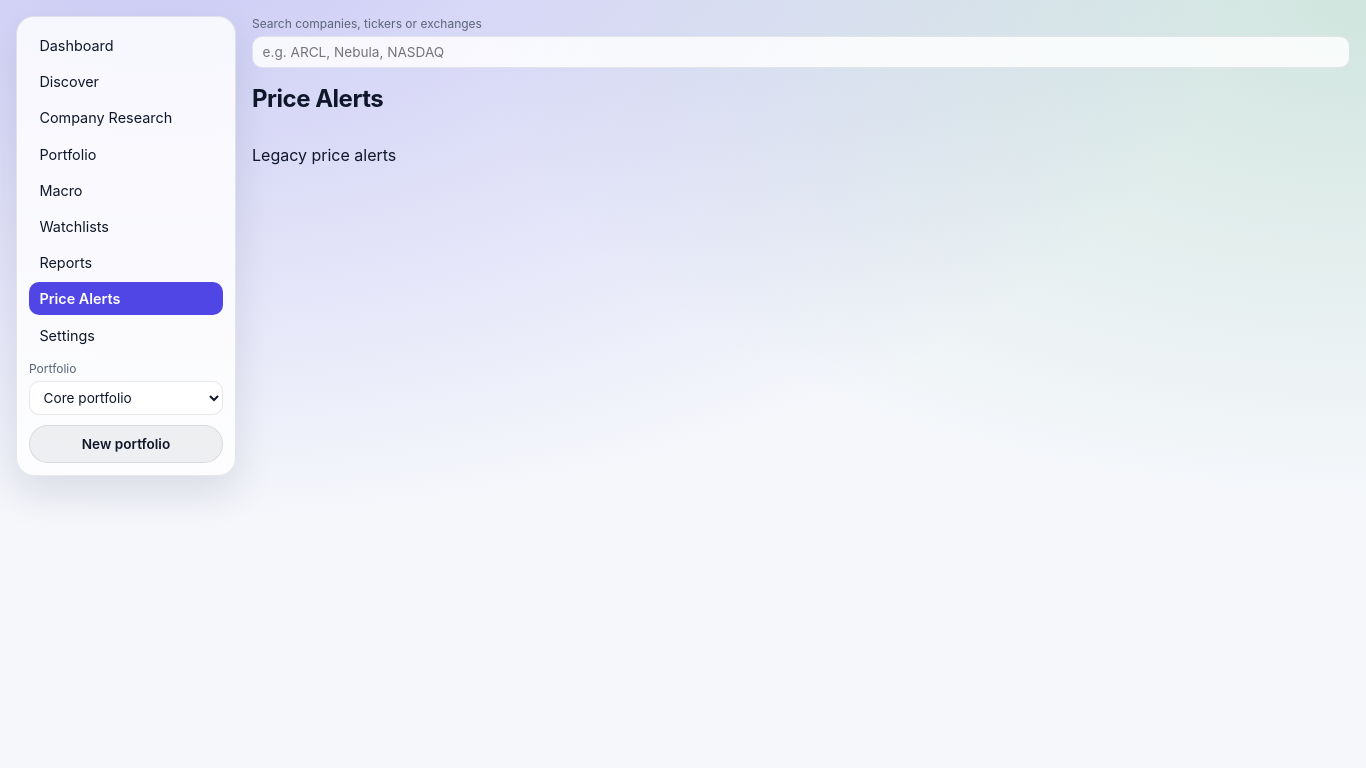
Scenario: ResearchWorkspace › saves a portfolio report and then deletes it
The image size is (1366, 768).
Click the button "Portfolio": [126, 154] box [29,138,223,171]
(page scrolled)
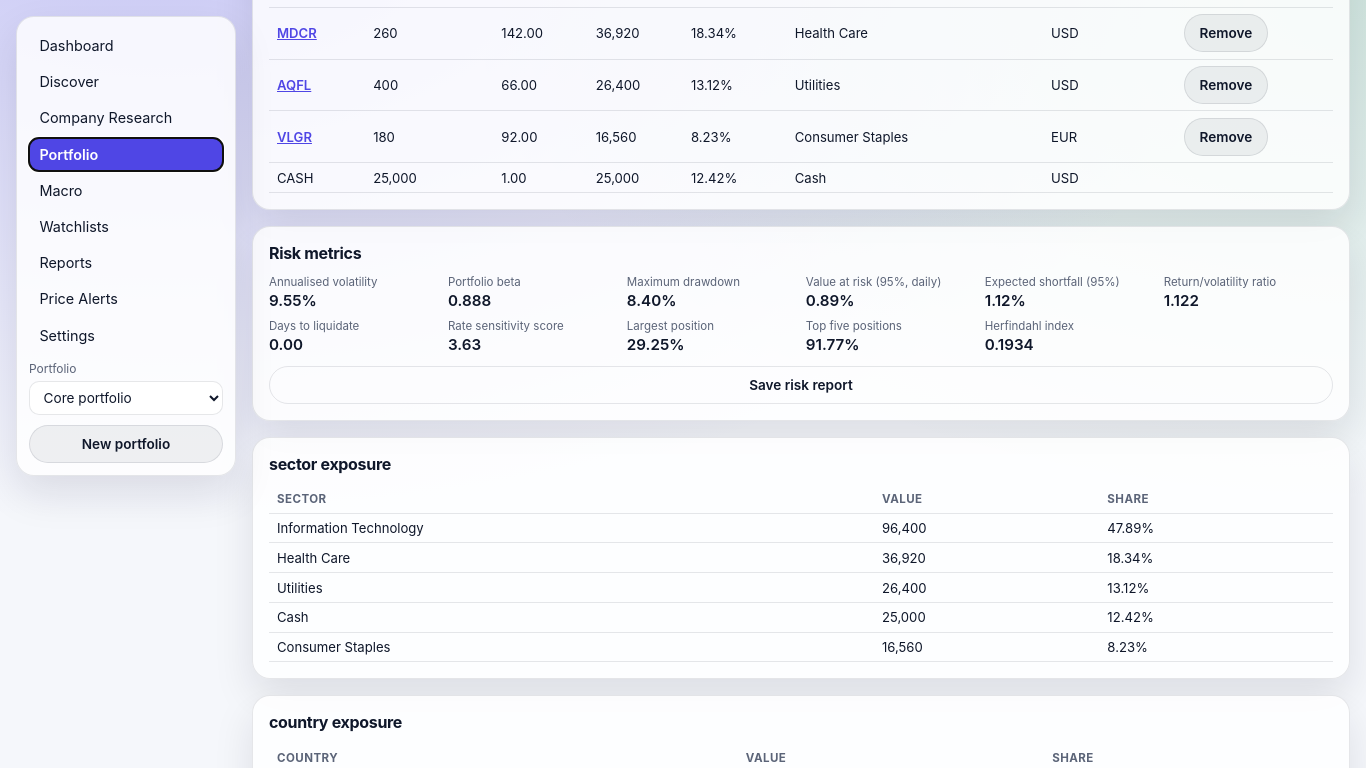
Click the button "Save risk report": [801, 385] box [269,366,1333,404]
(page scrolled)
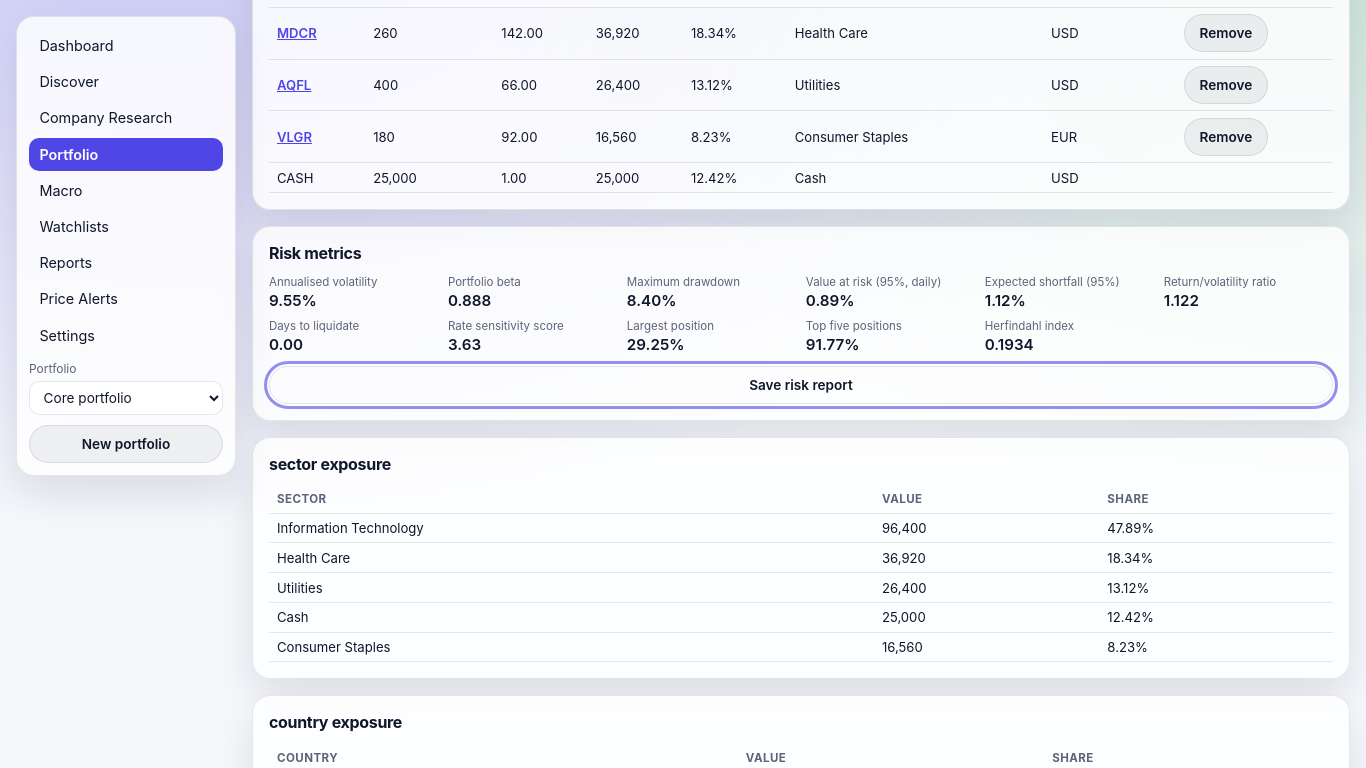
Click the button "Reports": [126, 263] box [29,246,223,279]
(page scrolled)
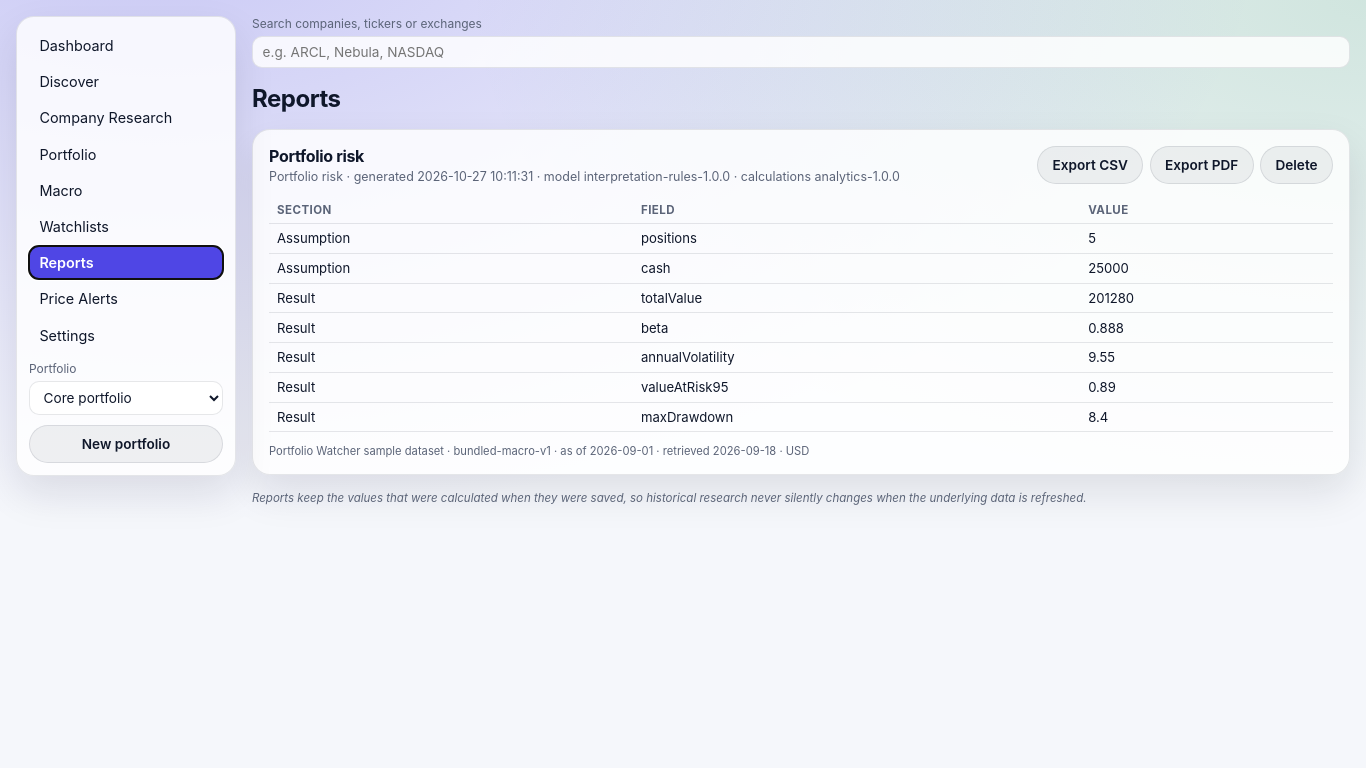
Check: the heading "Portfolio risk" is shown, box [269,146,364,166]
Click the button "Delete": [1297, 165] box [1260,146,1333,184]
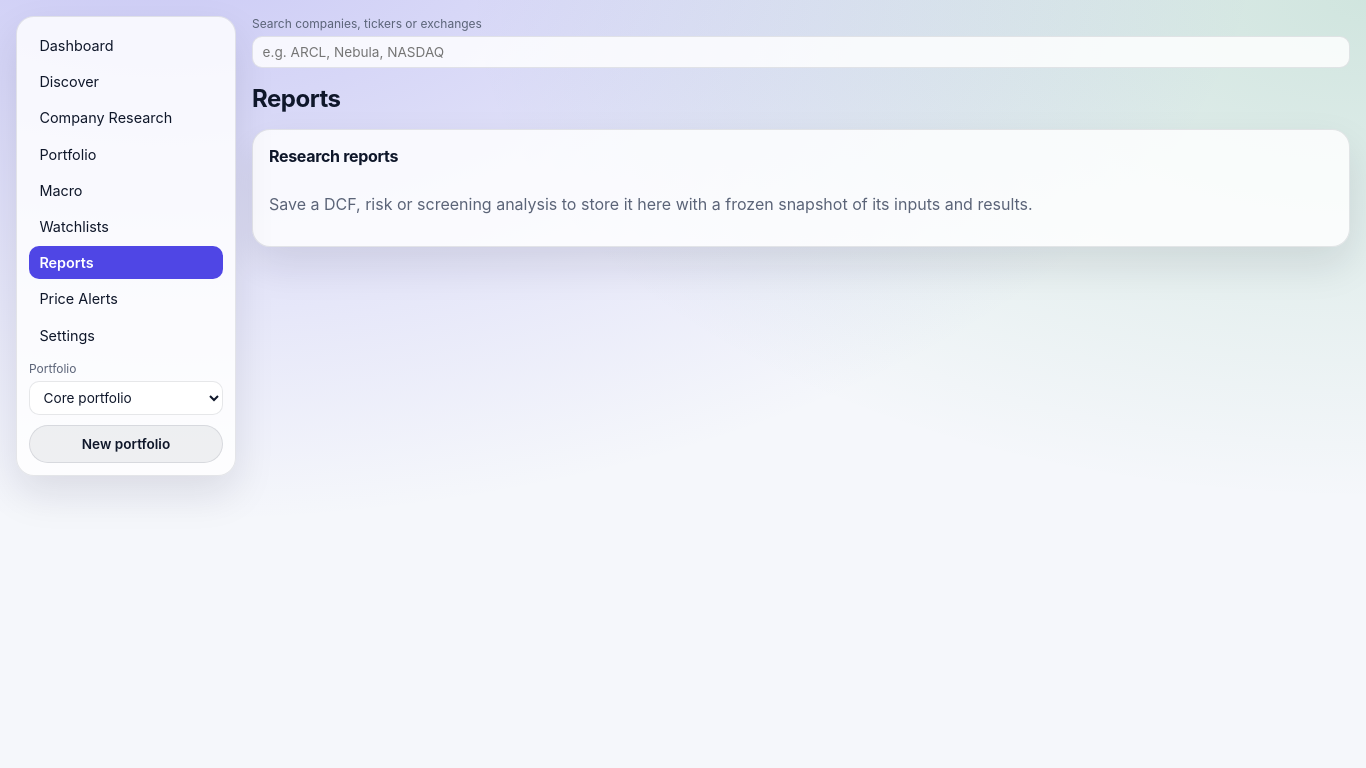
Check: the text "Save a DCF, risk or screening analysis" is shown, box [269,194,1033,214]
